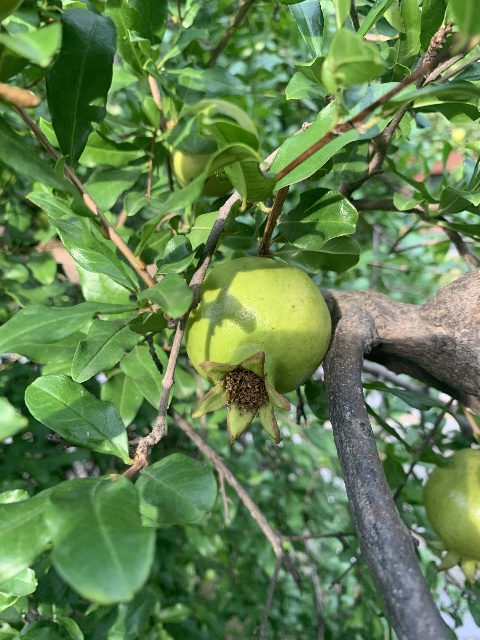mid-growth: (185, 256, 332, 446), (171, 98, 260, 197), (422, 447, 480, 586)
